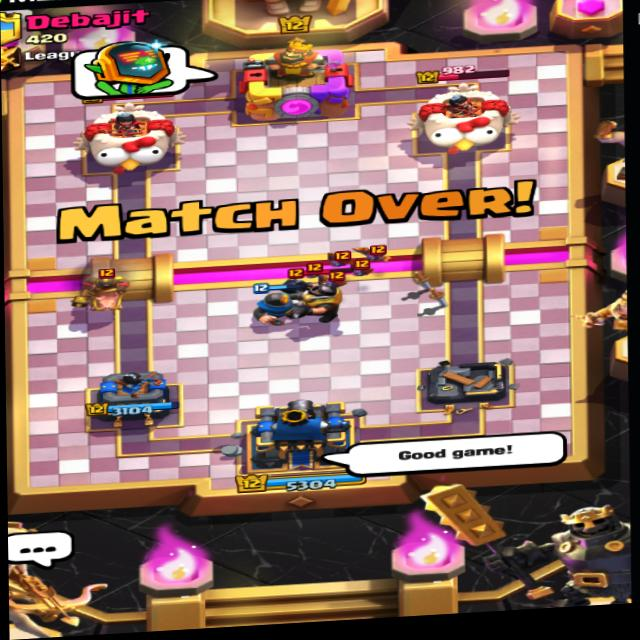bats: (351, 243, 395, 267), (313, 247, 352, 266), (344, 256, 372, 280)
hog-rider: (70, 257, 140, 317)
mega-knight: (279, 258, 357, 326)
